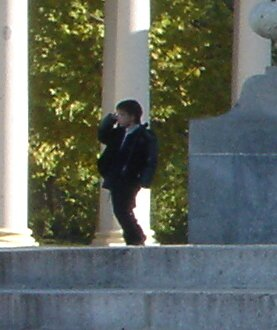person: (91, 98, 165, 244)
